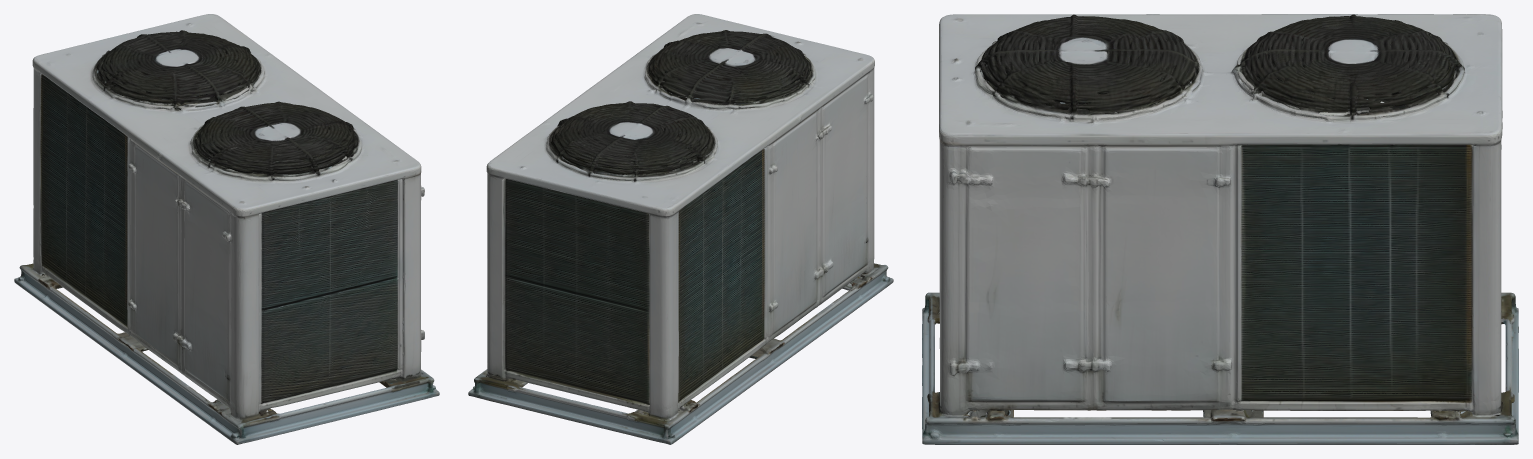
3 views of the same model, side by side, from view 1: azimuth 30°, elevation 25°; view 2: azimuth 150°, elevation 25°; view 3: azimuth 270°, elevation 25° (orthographic). The views are drawn at different scales.
Parts seen in each view (by area): view 1: textured.obj; view 2: textured.obj; view 3: textured.obj.
Part boxes in pixels (box(x1,y1,x2,y2)): textured.obj: box(14, 14, 439, 444); textured.obj: box(468, 14, 893, 444); textured.obj: box(922, 14, 1518, 444).
Size of the model in its own units: 1.05 by 1.22 by 1.99.
1 material, 1 textured.
